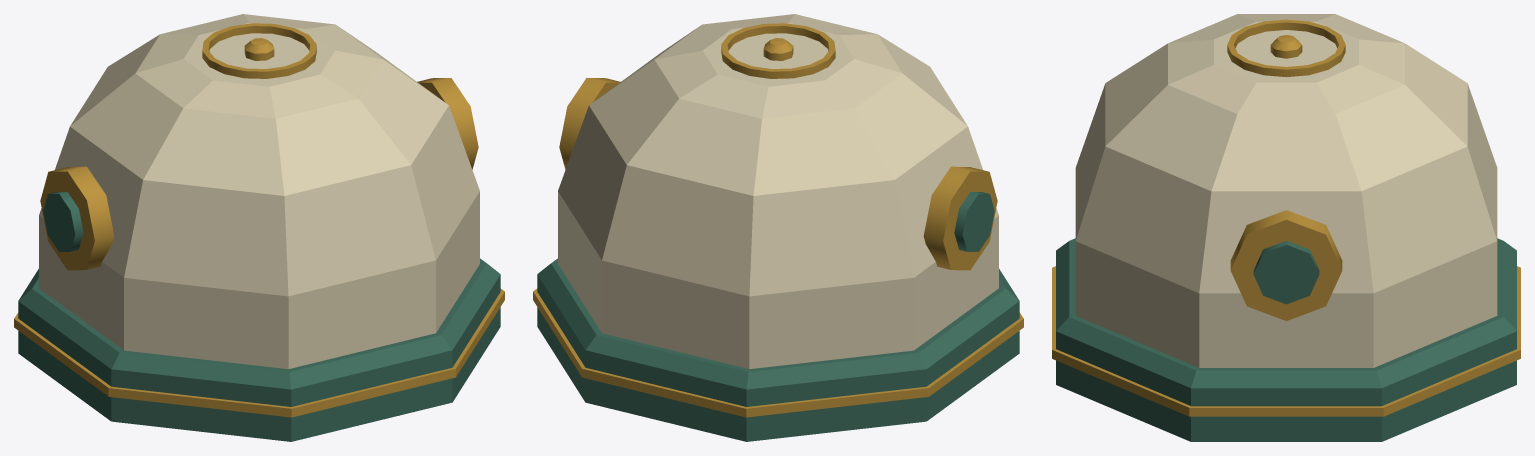
File: pd3_mount.obj
The picture shows the model from 3 angles, left to right: view 1: azimuth 30°, elevation 25°; view 2: azimuth 150°, elevation 25°; view 3: azimuth 270°, elevation 25°; orthographic projection. The views are drawn at different scales.
Visible parts, largest first — view 1: pd3_mount; view 2: pd3_mount; view 3: pd3_mount.
Boxes of the visible parts, box(x1,y1,x2,y2) form: pd3_mount: box(14, 14, 504, 441); pd3_mount: box(533, 14, 1023, 441); pd3_mount: box(1052, 14, 1520, 441).
Bounding box in the file's own units: 1.44 × 1.03 × 1.42.
